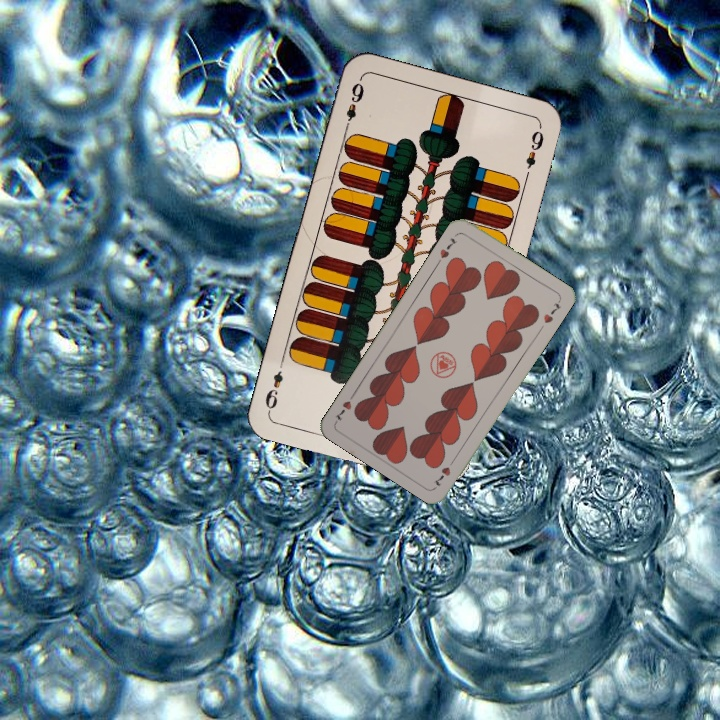E9: (340, 78, 367, 134)
H7: (429, 454, 458, 490), (433, 234, 460, 267)
